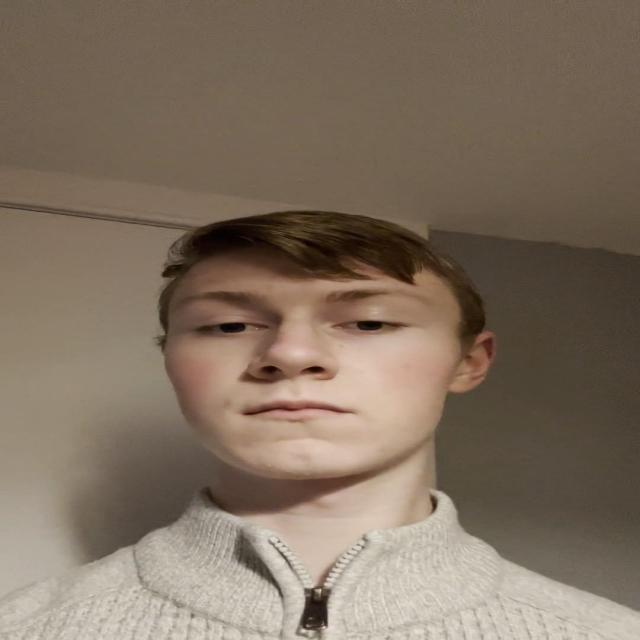no-helmet: (150, 203, 490, 515)
